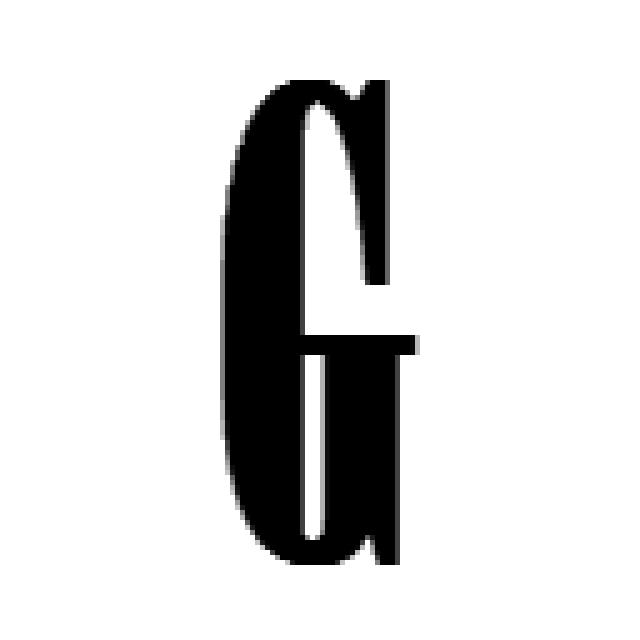G: (210, 70, 420, 570)
